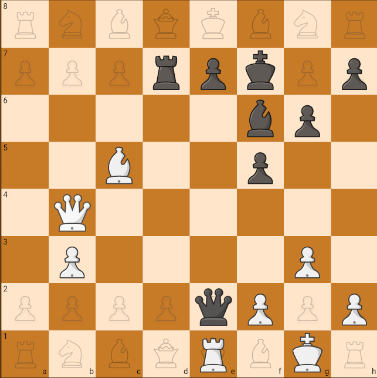bb: (243, 99, 280, 140)
bk: (238, 47, 282, 94)
bp: (290, 98, 327, 141), (242, 147, 281, 186), (336, 54, 374, 94), (196, 52, 229, 92)
bq: (191, 286, 235, 329)
br: (142, 47, 187, 92)
wb: (97, 145, 141, 187)
wk: (289, 331, 329, 375)
wp: (335, 287, 375, 328), (242, 287, 278, 327), (54, 241, 90, 280), (293, 244, 324, 279)
wq: (49, 190, 94, 235)
wr: (193, 334, 233, 373)
